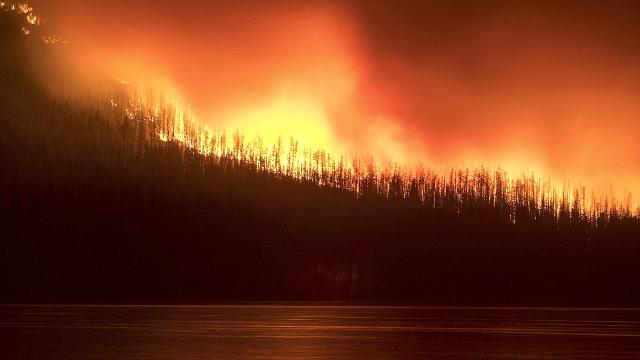fire: (3, 1, 637, 212)
